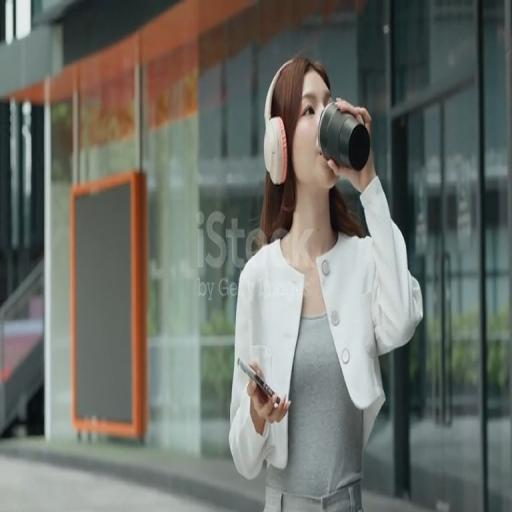earphone: (260, 56, 306, 194)
